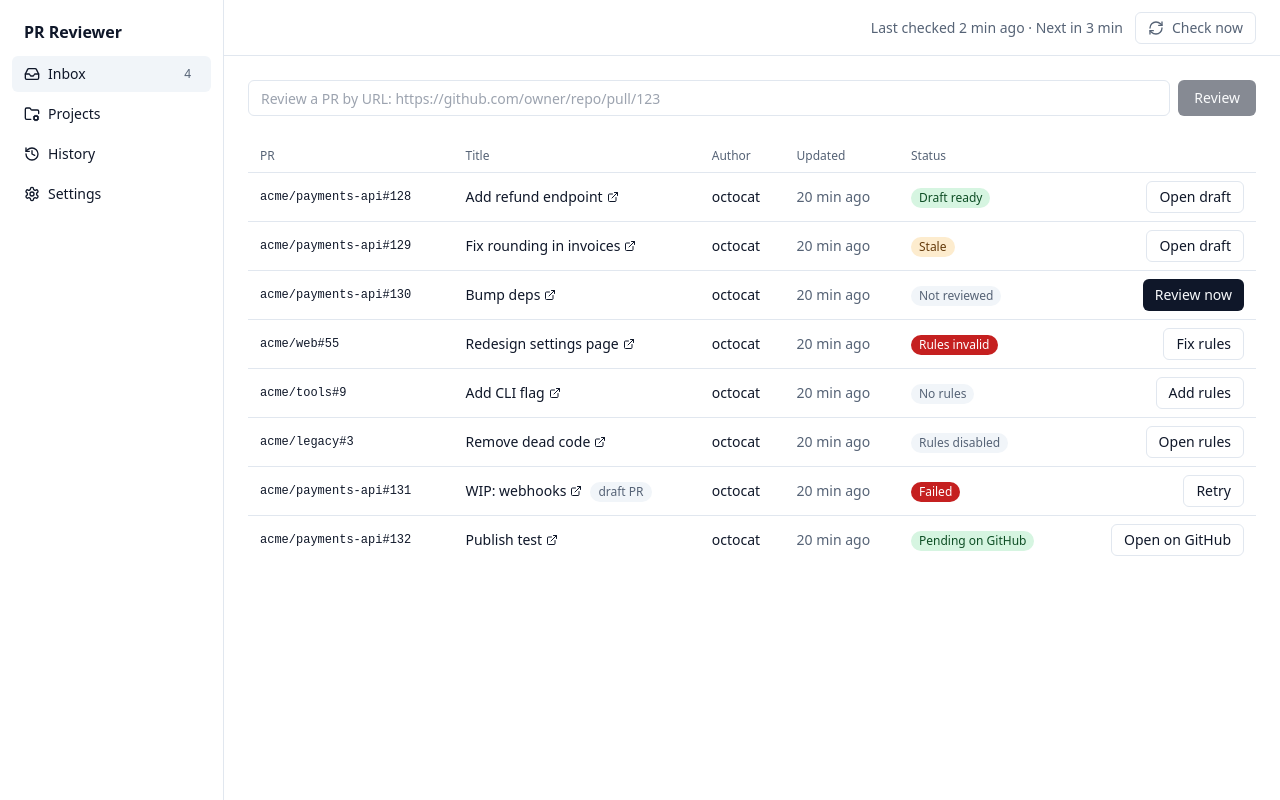
Review a PR by URL › shows progress while the review runs
In the field named "Pull request URL": (709,98) [248,80,1170,116], type "https://github.com/acme/payments-api/pull/1"
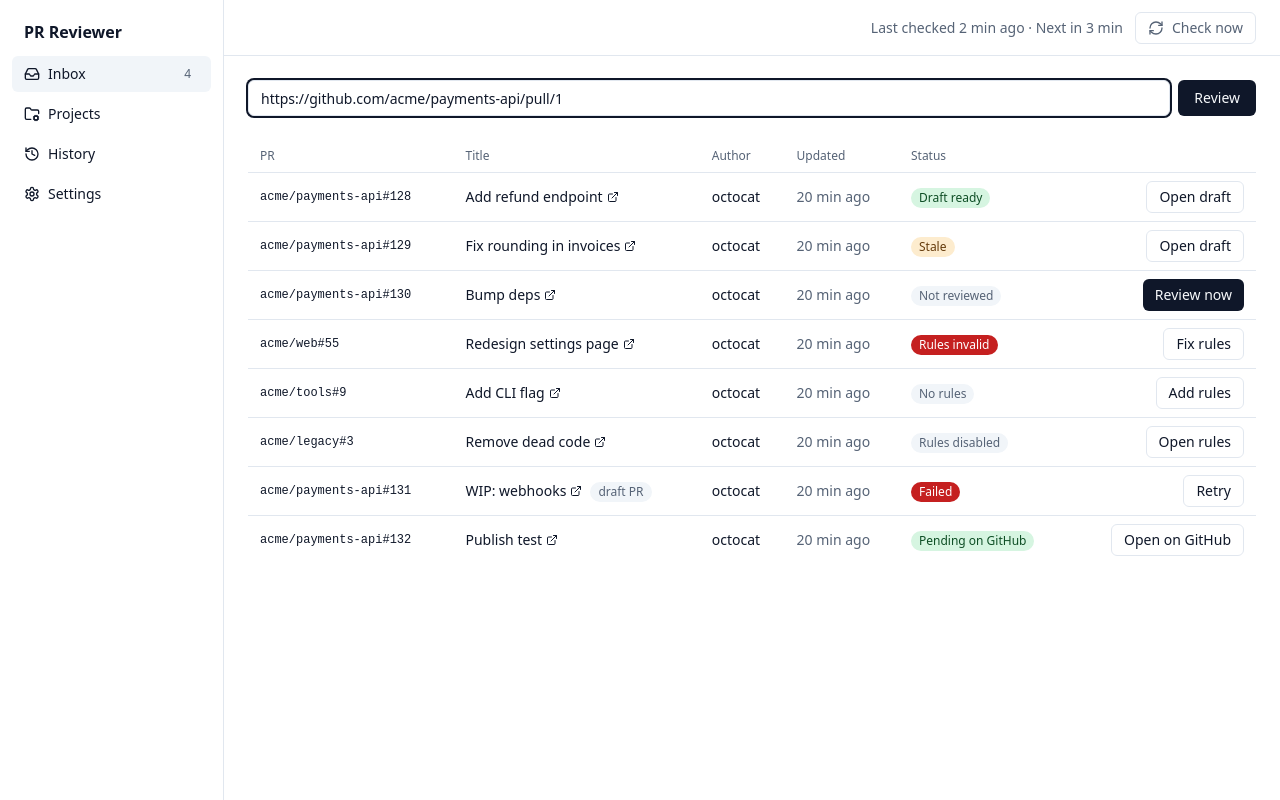
Click the button "Review": (1217,98) [1178,80,1256,116]
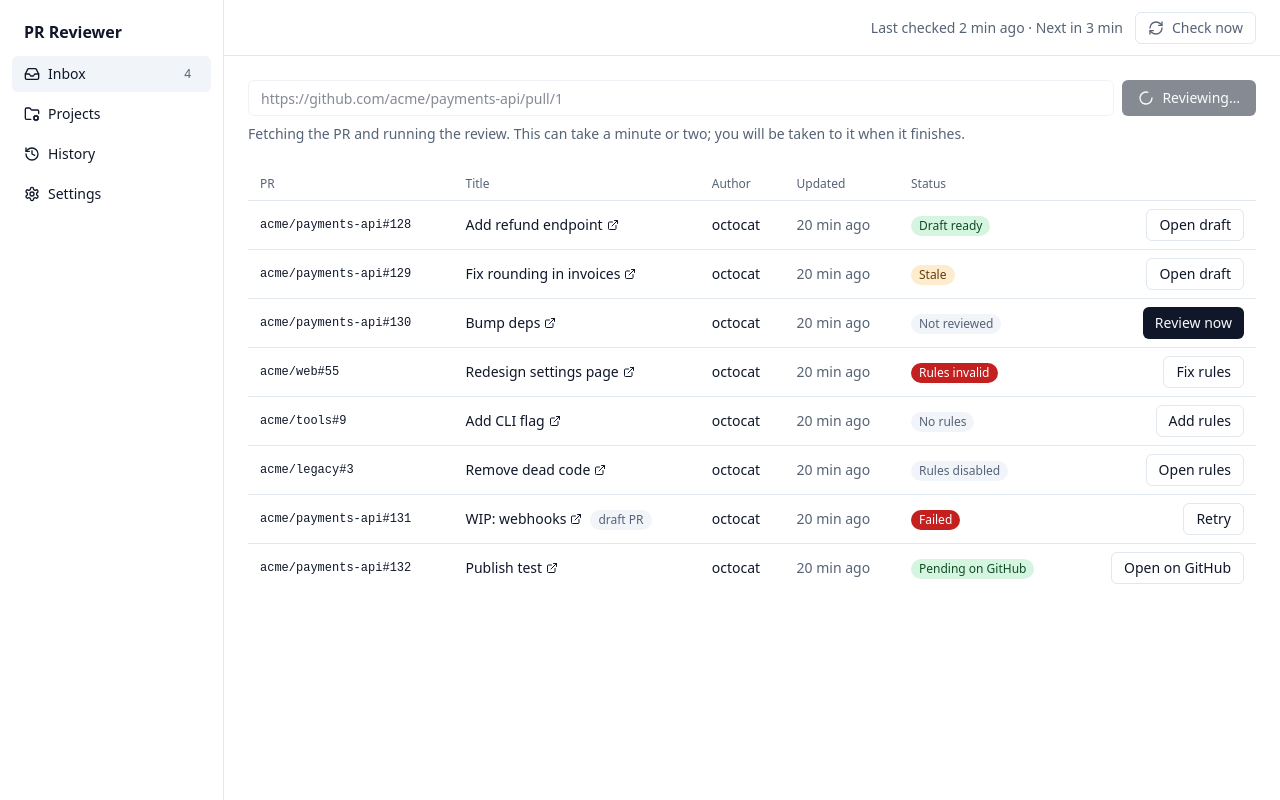
Result: the button "Reviewing…" is disabled at [1122,80,1256,116]
Result: the field named "Pull request URL" is disabled at [248,80,1114,116]
Result: the text "can take a minute or two" is shown at [248,124,965,143]
